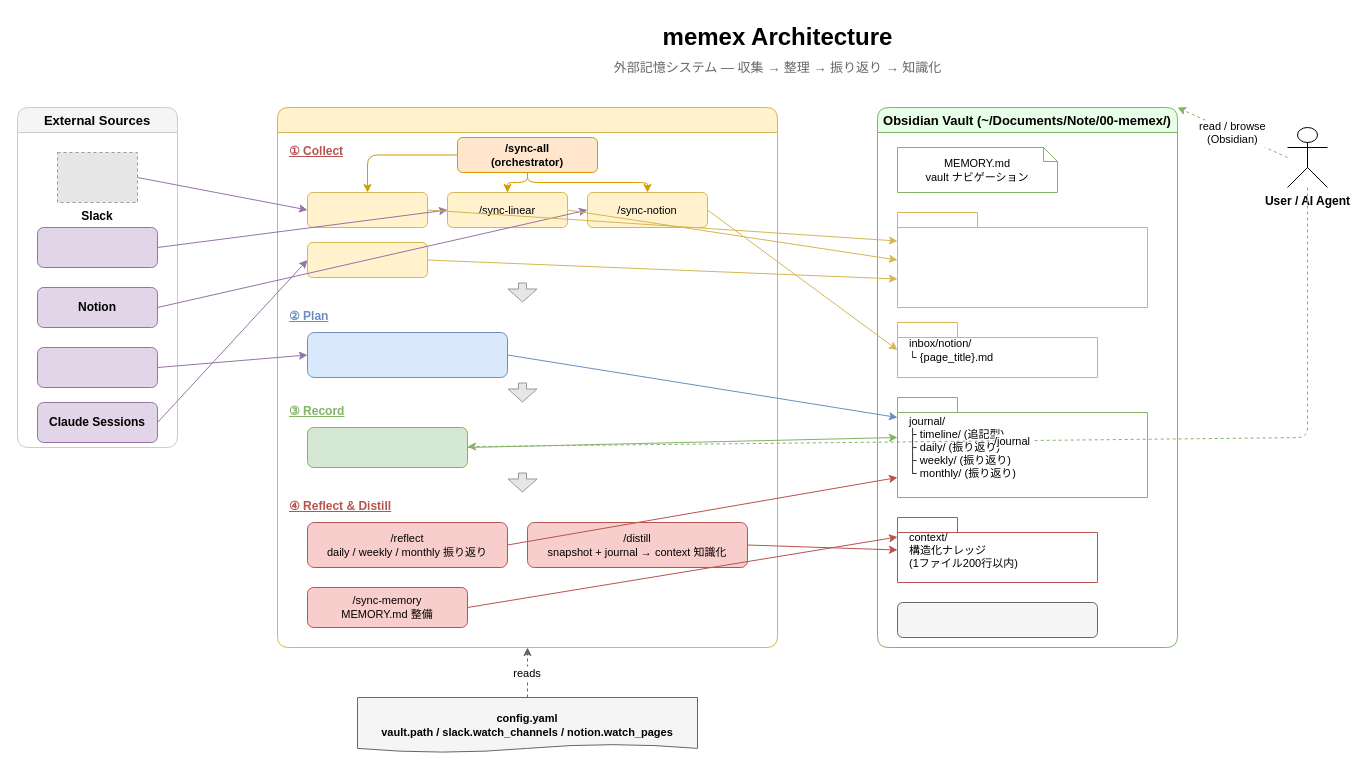
Some shapes in this 1367 by 770 pixel diagram are drawn without their labels. Grey dashed boxes stand in for pictures. Each missing label, with the box of its shape:
/daily-planner Calendar + Linear + Slack → TODO: (306, 332, 508, 378)
/journal 思考・感想を追記: (306, 426, 468, 468)
/sync-sessions: (306, 242, 428, 278)
/sync-slack: (306, 192, 428, 228)
Git 管理 commit-vault.sh で自動コミット: (896, 602, 1098, 638)
Google Calendar: (36, 346, 158, 388)
Linear: (36, 226, 158, 268)
Skills (Claude Code): (276, 106, 778, 648)
snapshot/YYYY-MM-DD/ ├ slack.md ├ linear.md ├ standup.md └ claude-log.md: (896, 212, 1148, 308)
